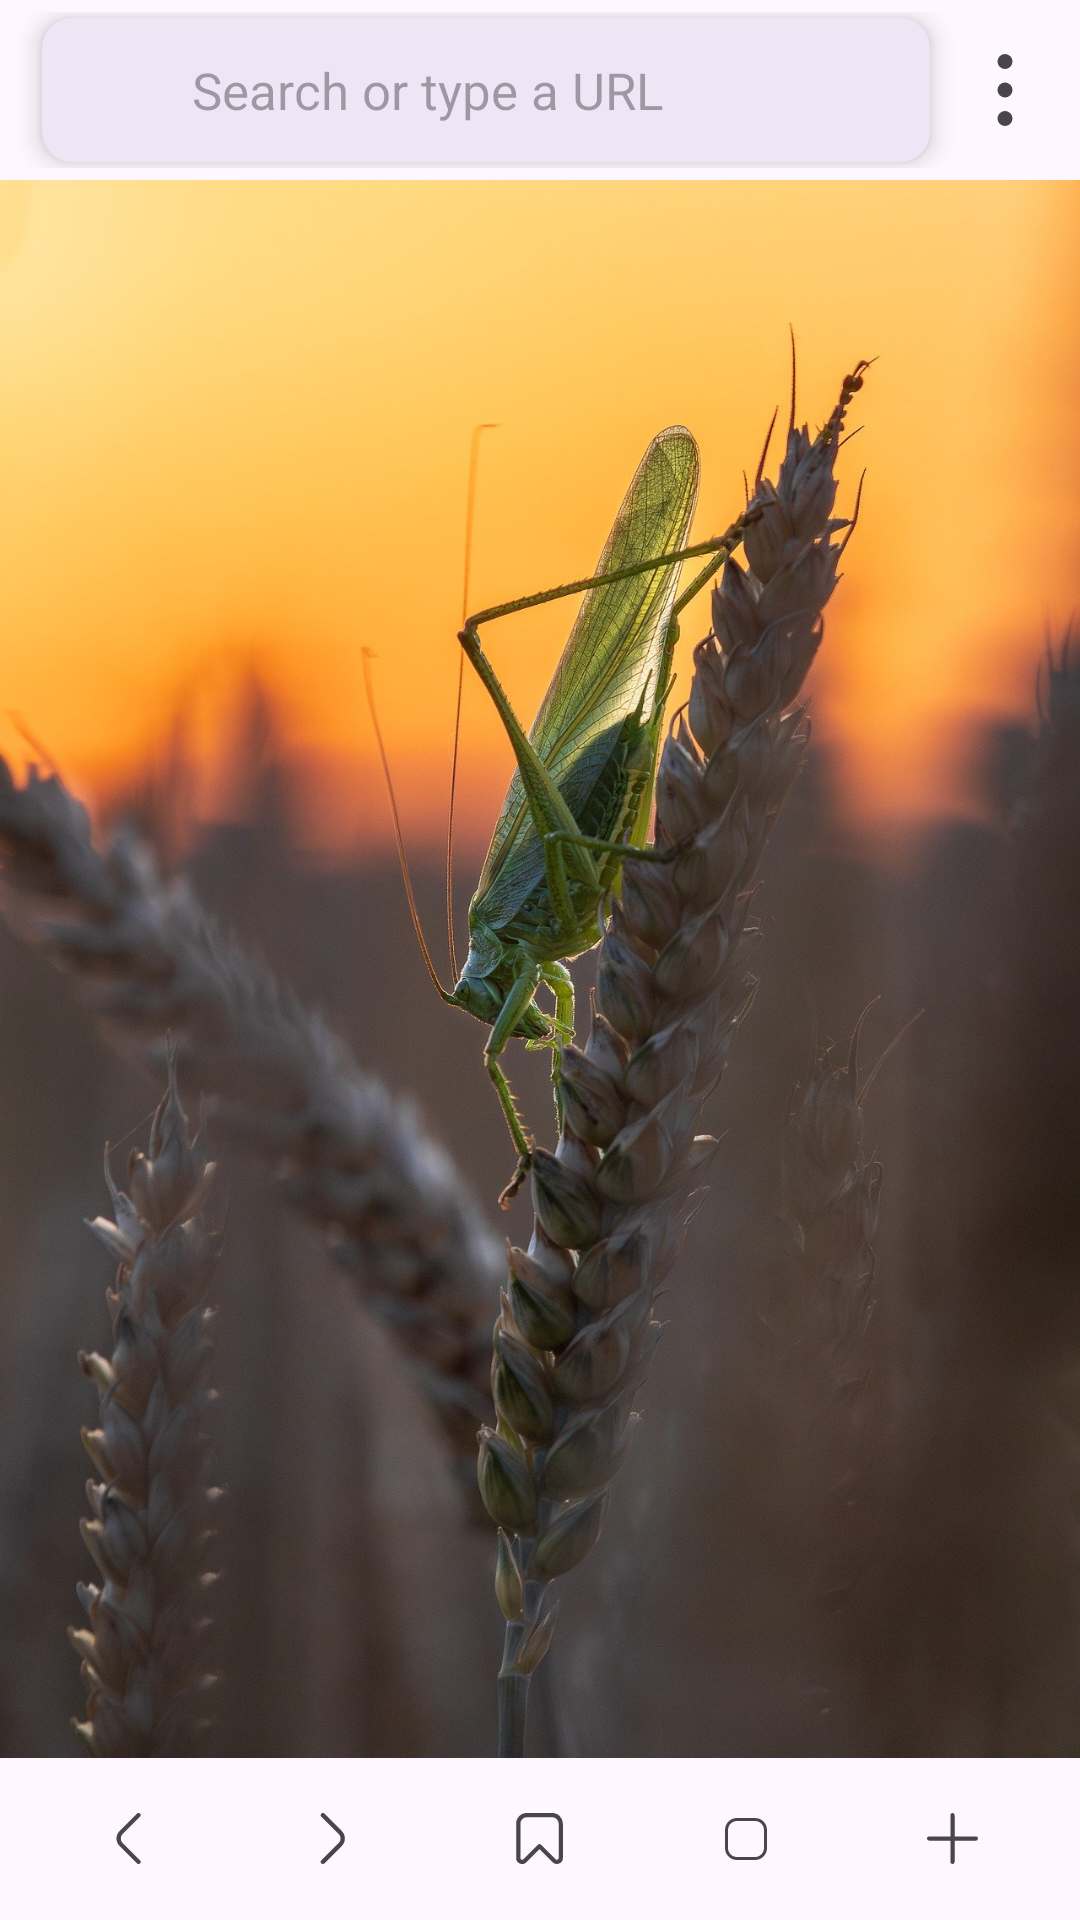

Icons on this 1080px×1920px Android screen, each with the point to tap as (x,y):
angle left: (128,1838)
angle right: (332,1838)
bookmark empty: (539,1838)
dots vertical: (1005,90)
plus: (952,1838)
square: (746,1839)
